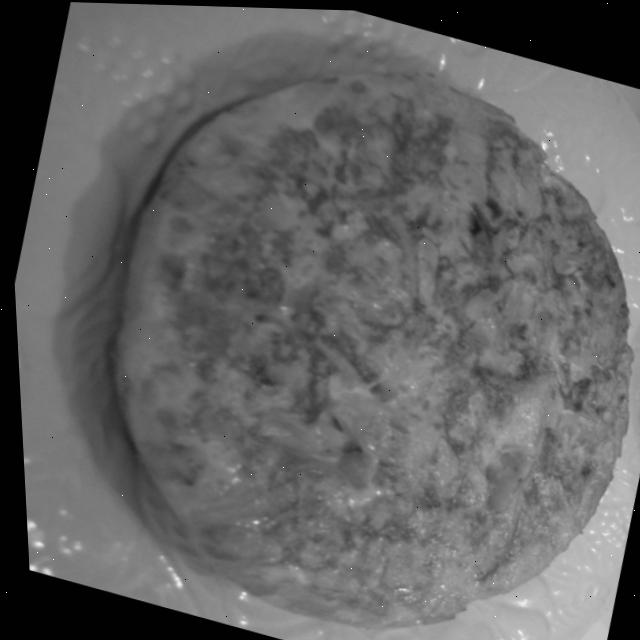面包点心: (4, 1, 640, 640)
